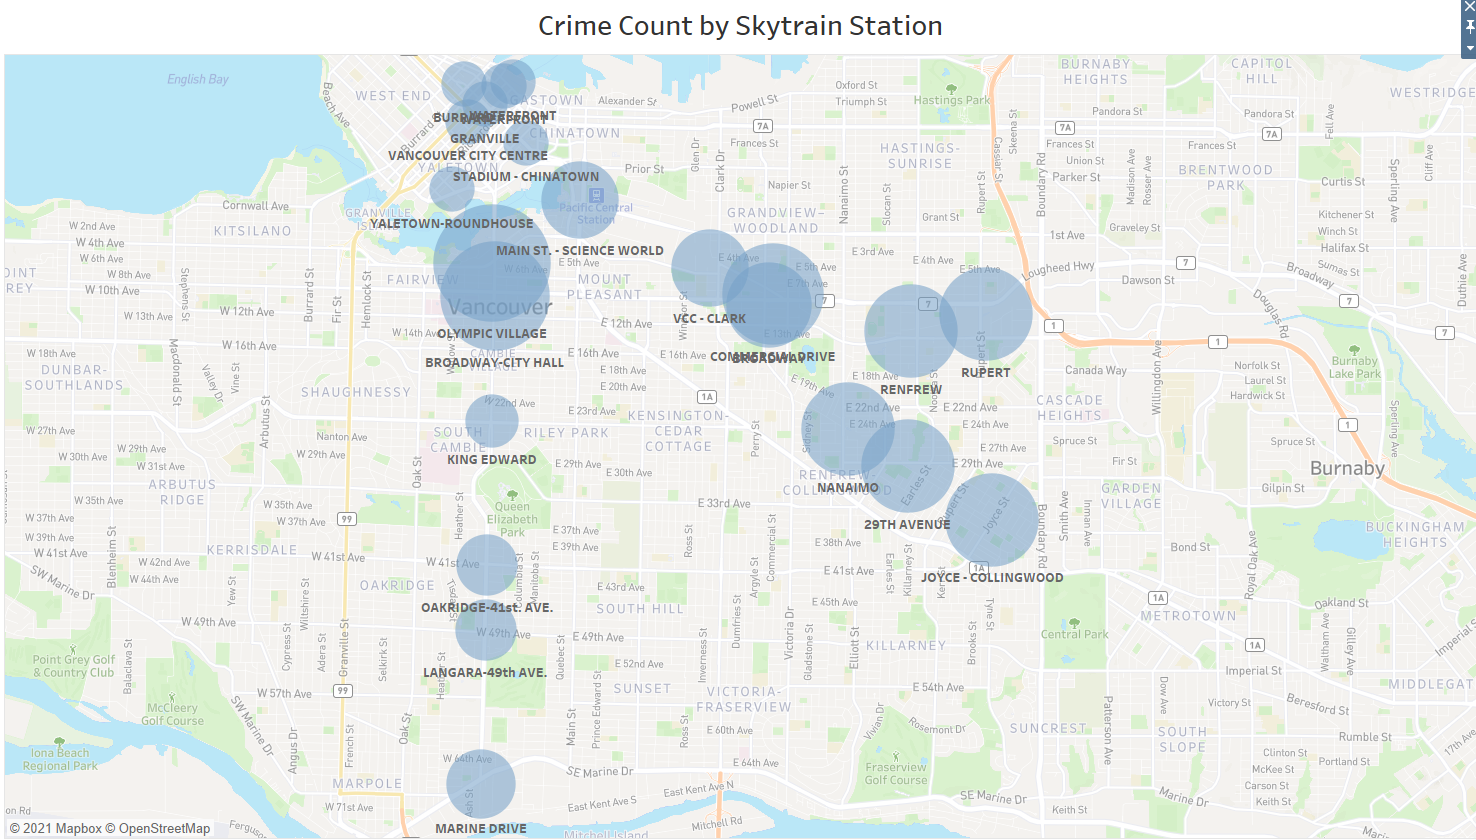

The page's visual inventory and layout, read from the dashboard file:
{"tool":"tableau","page":{"name":"Dashboard 1","canvas":[1000,1000],"units":"permille","ordinal":0},"visuals":[{"type":"worksheet","title":"Sheet 1","mark":"Automatic","box":[4.8,9.3,893.8,981.4]},{"type":"legend","title":"Sheet 1","param":"[federated.1s4b5z10wqg3g819w9l4s04un8us].[none:TYPE:nk]","box":[898.6,9.3,96.6,278.7]}]}

Visuals, with their boxes on the dashboard's canvas, which has no fixed pixel size, in thousandths of its width and height (x1, y1, x2, y2). These are canvas units, not pixel positions in the 1476x840 screenshot, which may show the page scaled, cropped or inside an application window:
"Sheet 1" worksheet: <box>5,9,899,991</box>
"Sheet 1" legend: <box>899,9,995,288</box>
